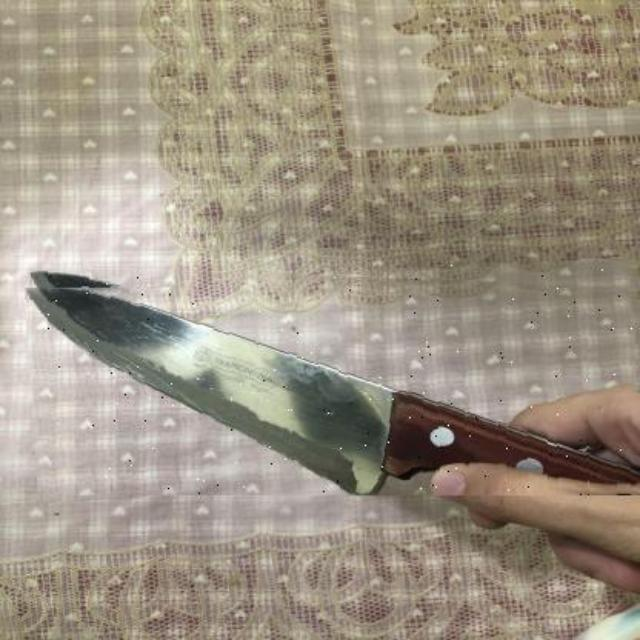Knife: (26, 265, 640, 495)
